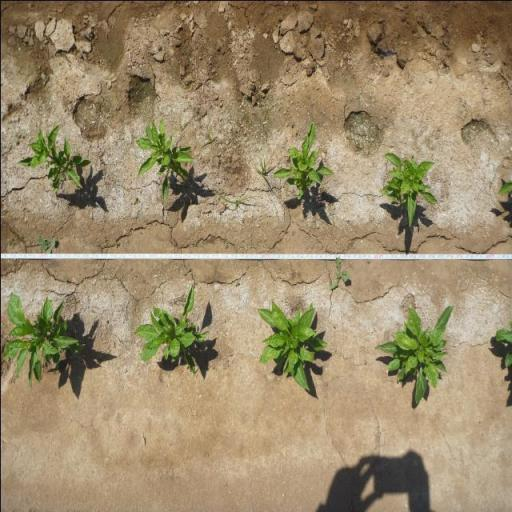plant: (374, 296, 456, 406), (0, 289, 88, 390), (252, 295, 329, 395), (131, 283, 208, 379), (14, 120, 96, 200), (379, 150, 443, 232), (137, 120, 194, 206), (274, 125, 335, 203), (494, 320, 512, 379)
weed: (210, 188, 258, 220), (252, 149, 274, 198), (328, 258, 350, 291), (35, 232, 57, 255), (12, 130, 24, 146), (130, 192, 140, 207), (181, 266, 191, 276), (289, 120, 294, 129)
